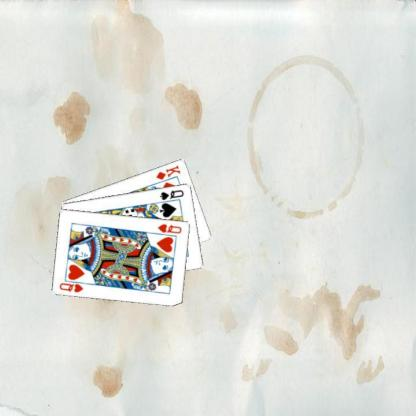KD: (153, 162, 182, 181)
QH: (57, 277, 88, 294), (156, 221, 183, 235)
QS: (157, 187, 185, 201)
